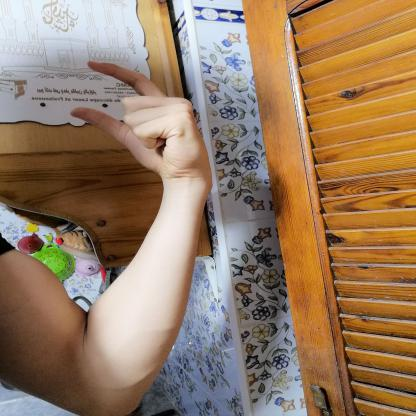DELL: (60, 53, 215, 184)
